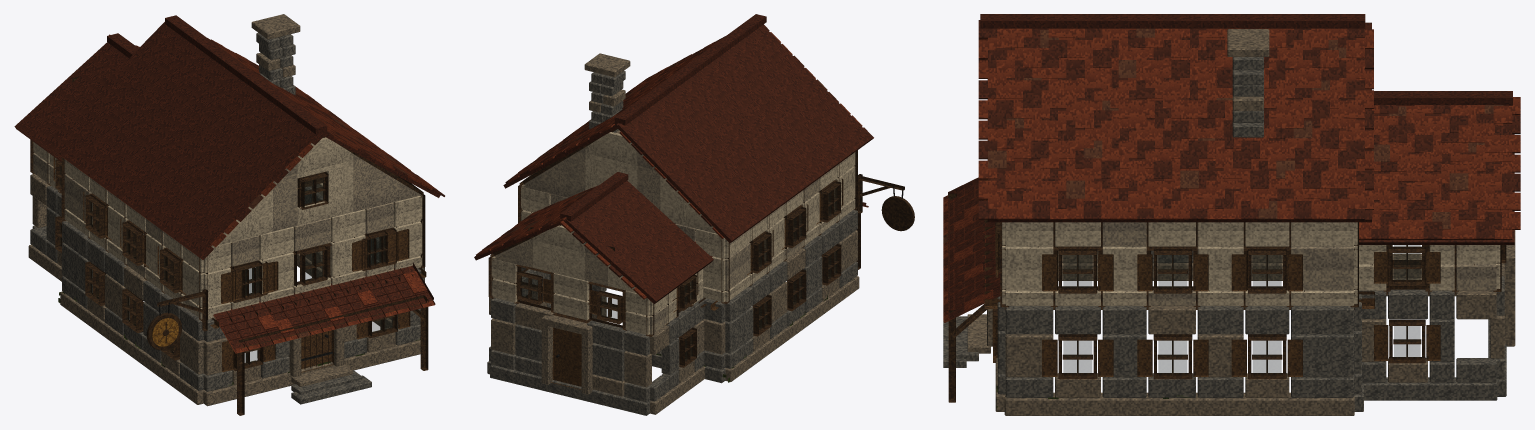
File: medieval_tavern_house_3d_runtime.glb
3 renders of one model, left to right at view 1: azimuth 30°, elevation 25°; view 2: azimuth 150°, elevation 25°; view 3: azimuth 270°, elevation 25°, orthographic. The views are drawn at different scales.
Parts seen in each view (by area): view 1: RUNTIME_BATCH_033_MAT_TAVERN_ROOF_TILE_DARK, RUNTIME_BATCH_015_MAT_TAVERN_PLASTER_AGED, RUNTIME_BATCH_030_MAT_TAVERN_ROOF_TILE_DARK, RUNTIME_BATCH_017_MAT_TAVERN_STONE_DARK, RUNTIME_BATCH_000_MAT_TAVERN_STONE_WARM, RUNTIME_BATCH_019_MAT_TAVERN_PLASTER_AGED, RUNTIME_BATCH_021_MAT_TAVERN_PLASTER_AGED, RUNTIME_BATCH_036_MAT_TAVERN_ROOF_TILE_DARK, RUNTIME_BATCH_003_MAT_TAVERN_OAK_DARK, RUNTIME_BATCH_018_MAT_TAVERN_STONE_WARM, RUNTIME_BATCH_022_MAT_TAVERN_PLASTER_WORN, RUNTIME_BATCH_002_MAT_TAVERN_OAK_DARK (+19 smaller); view 2: RUNTIME_BATCH_033_MAT_TAVERN_ROOF_TILE_DARK, RUNTIME_BATCH_017_MAT_TAVERN_STONE_DARK, RUNTIME_BATCH_036_MAT_TAVERN_ROOF_TILE_DARK, RUNTIME_BATCH_019_MAT_TAVERN_PLASTER_AGED, RUNTIME_BATCH_018_MAT_TAVERN_STONE_WARM, RUNTIME_BATCH_023_MAT_TAVERN_PLASTER_AGED, RUNTIME_BATCH_003_MAT_TAVERN_OAK_DARK, RUNTIME_BATCH_024_MAT_TAVERN_PLASTER_WORN, RUNTIME_BATCH_000_MAT_TAVERN_STONE_WARM, RUNTIME_BATCH_027_MAT_TAVERN_OAK_DARK, RUNTIME_BATCH_001_MAT_TAVERN_STONE_DARK, MAIN_ROOF_TILES_TILE_RED (+8 smaller); view 3: MAIN_ROOF_TILES_TILE_RED, RUNTIME_BATCH_033_MAT_TAVERN_ROOF_TILE_DARK, RUNTIME_BATCH_017_MAT_TAVERN_STONE_DARK, RUNTIME_BATCH_019_MAT_TAVERN_PLASTER_AGED, SERVICE_ROOF_TILES_TILE_RED, RUNTIME_BATCH_018_MAT_TAVERN_STONE_WARM, RUNTIME_BATCH_036_MAT_TAVERN_ROOF_TILE_DARK, RUNTIME_BATCH_000_MAT_TAVERN_STONE_WARM, RUNTIME_BATCH_003_MAT_TAVERN_OAK_DARK, RUNTIME_BATCH_020_MAT_TAVERN_PLASTER_WORN, RUNTIME_BATCH_007_MAT_TAVERN_OAK_MID, RUNTIME_BATCH_028_MAT_TAVERN_OAK_MID (+21 smaller).
Part boxes in pixels (box(x1,y1,x2,y2)): RUNTIME_BATCH_033_MAT_TAVERN_ROOF_TILE_DARK: box(46, 15, 444, 259); RUNTIME_BATCH_015_MAT_TAVERN_PLASTER_AGED: box(203, 196, 421, 319); RUNTIME_BATCH_030_MAT_TAVERN_ROOF_TILE_DARK: box(214, 262, 433, 348); RUNTIME_BATCH_017_MAT_TAVERN_STONE_DARK: box(30, 186, 424, 390); RUNTIME_BATCH_000_MAT_TAVERN_STONE_WARM: box(28, 244, 420, 406); RUNTIME_BATCH_019_MAT_TAVERN_PLASTER_AGED: box(33, 137, 422, 319); RUNTIME_BATCH_021_MAT_TAVERN_PLASTER_AGED: box(211, 137, 353, 247); RUNTIME_BATCH_036_MAT_TAVERN_ROOF_TILE_DARK: box(14, 33, 138, 161); RUNTIME_BATCH_003_MAT_TAVERN_OAK_DARK: box(30, 137, 424, 320); RUNTIME_BATCH_018_MAT_TAVERN_STONE_WARM: box(30, 174, 391, 376); RUNTIME_BATCH_022_MAT_TAVERN_PLASTER_WORN: box(273, 154, 421, 231); RUNTIME_BATCH_002_MAT_TAVERN_OAK_DARK: box(199, 191, 425, 321); RUNTIME_BATCH_033_MAT_TAVERN_ROOF_TILE_DARK: box(503, 14, 873, 242); RUNTIME_BATCH_017_MAT_TAVERN_STONE_DARK: box(489, 210, 857, 402); RUNTIME_BATCH_036_MAT_TAVERN_ROOF_TILE_DARK: box(474, 172, 713, 303); RUNTIME_BATCH_019_MAT_TAVERN_PLASTER_AGED: box(491, 152, 855, 335); RUNTIME_BATCH_018_MAT_TAVERN_STONE_WARM: box(489, 230, 857, 396); RUNTIME_BATCH_023_MAT_TAVERN_PLASTER_AGED: box(533, 132, 716, 292); RUNTIME_BATCH_003_MAT_TAVERN_OAK_DARK: box(488, 151, 857, 336); RUNTIME_BATCH_024_MAT_TAVERN_PLASTER_WORN: box(492, 147, 660, 285); RUNTIME_BATCH_000_MAT_TAVERN_STONE_WARM: box(650, 276, 859, 414); RUNTIME_BATCH_027_MAT_TAVERN_OAK_DARK: box(522, 244, 841, 367); RUNTIME_BATCH_001_MAT_TAVERN_STONE_DARK: box(487, 354, 725, 415); MAIN_ROOF_TILES_TILE_RED: box(508, 32, 866, 238); MAIN_ROOF_TILES_TILE_RED: box(978, 28, 1373, 219); RUNTIME_BATCH_033_MAT_TAVERN_ROOF_TILE_DARK: box(978, 14, 1373, 222); RUNTIME_BATCH_017_MAT_TAVERN_STONE_DARK: box(1005, 250, 1504, 397); RUNTIME_BATCH_019_MAT_TAVERN_PLASTER_AGED: box(1005, 222, 1500, 305); SERVICE_ROOF_TILES_TILE_RED: box(1359, 97, 1520, 239); RUNTIME_BATCH_018_MAT_TAVERN_STONE_WARM: box(1005, 230, 1515, 397); RUNTIME_BATCH_036_MAT_TAVERN_ROOF_TILE_DARK: box(1359, 91, 1520, 244); RUNTIME_BATCH_000_MAT_TAVERN_STONE_WARM: box(995, 263, 1456, 415); RUNTIME_BATCH_003_MAT_TAVERN_OAK_DARK: box(1001, 222, 1506, 309); RUNTIME_BATCH_020_MAT_TAVERN_PLASTER_WORN: box(1102, 222, 1496, 305); RUNTIME_BATCH_007_MAT_TAVERN_OAK_MID: box(1042, 252, 1440, 308); RUNTIME_BATCH_028_MAT_TAVERN_OAK_MID: box(1042, 325, 1440, 376).
Bounding box in the file's own units: 11.29 × 9.98 × 15.19.
Materials: 14 (14 with a texture image).
